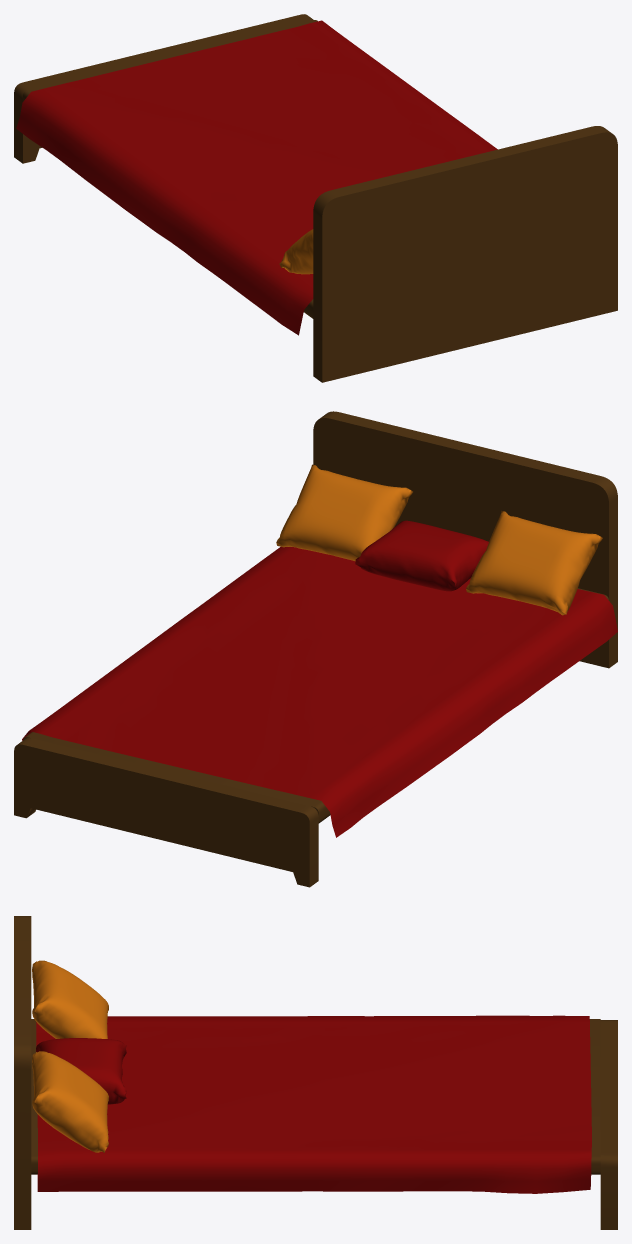
Rendered from bed2.fbx.
3 renders of one model, top to bottom at view 1: azimuth 30°, elevation 25°; view 2: azimuth 150°, elevation 25°; view 3: azimuth 270°, elevation 25°, orthographic. The views are drawn at different scales.
Parts seen in each view (by area): view 1: Plane, plane2, plane3, plane1, p2; view 2: Plane, plane2, plane3, p2, p3, p1, plane1; view 3: Plane, plane2, p3, p2, plane3, p1, plane1.
Boxes of the visible parts, <box> form: Plane: <box>16,20,497,335</box>; plane2: <box>313,126,617,382</box>; plane3: <box>14,14,313,163</box>; plane1: <box>23,20,317,318</box>; p2: <box>279,229,313,274</box>; Plane: <box>22,547,617,837</box>; plane2: <box>313,411,617,668</box>; plane3: <box>14,738,318,887</box>; p2: <box>466,511,602,615</box>; p3: <box>276,464,412,561</box>; p1: <box>355,520,488,591</box>; plane1: <box>23,588,608,823</box>; Plane: <box>36,1015,591,1193</box>; plane2: <box>14,916,31,1229</box>; p3: <box>32,1051,108,1152</box>; p2: <box>32,960,108,1038</box>; plane3: <box>600,1020,617,1229</box>; p1: <box>36,1038,126,1104</box>; plane1: <box>31,1019,600,1174</box>.
Bounding box in the file's own units: 183 × 100 × 307.
